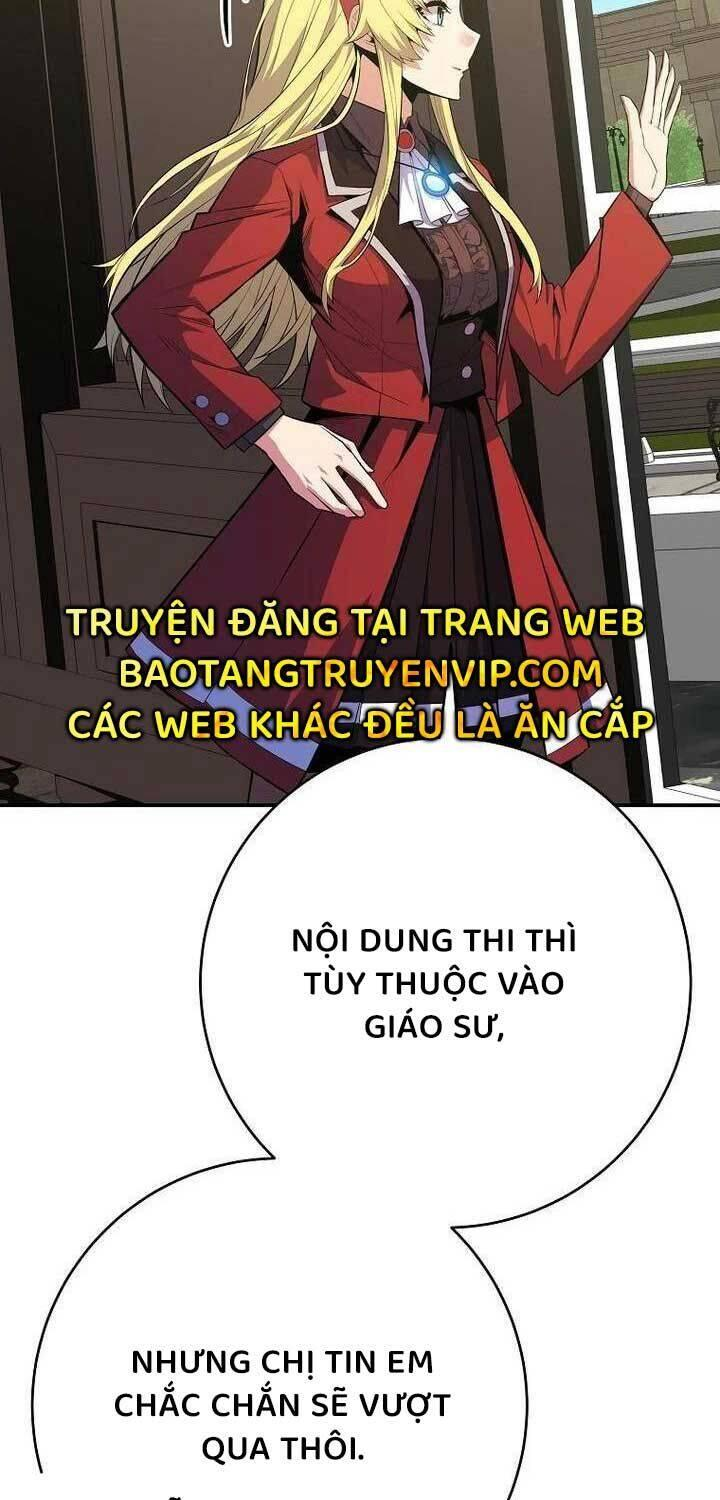quangcao: (60, 598, 656, 752)
